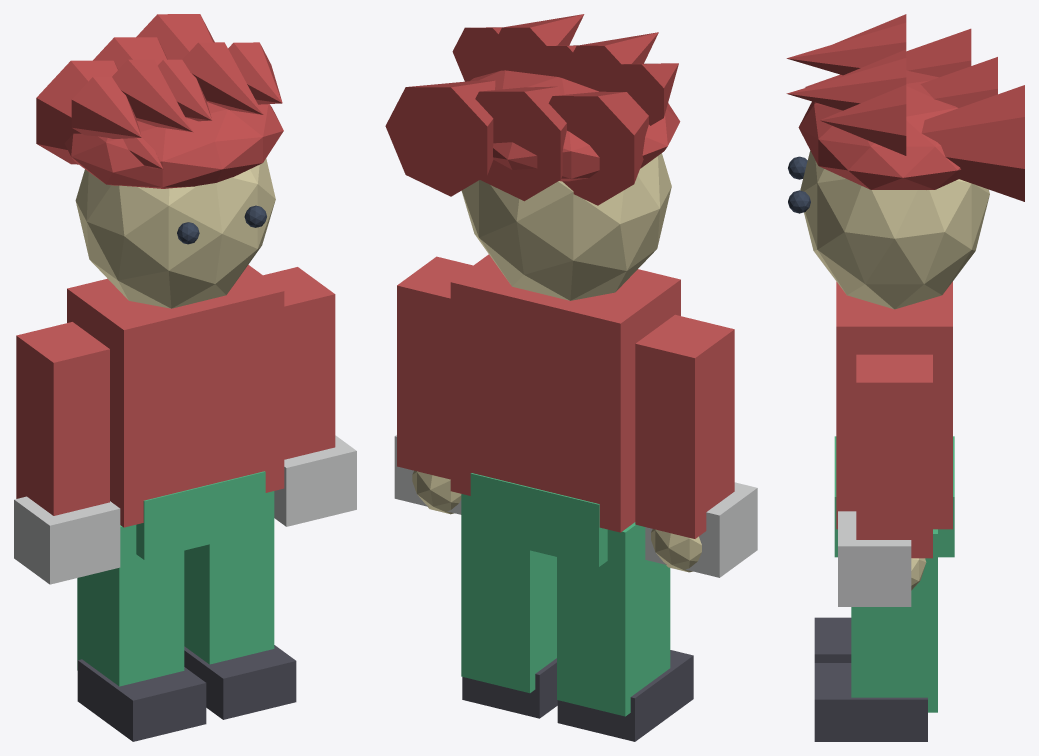
The model's file is knuckles.glb.
3 views of the same model, side by side, from view 1: azimuth 30°, elevation 25°; view 2: azimuth 150°, elevation 25°; view 3: azimuth 270°, elevation 25° (orthographic). The views are drawn at different scales.
Visible parts, largest first — view 1: part_000, part_010, part_002, part_004, part_008, part_013, part_006, part_001, part_022, part_005, part_009, part_023 (+8 smaller); view 2: part_000, part_002, part_010, part_004, part_008, part_006, part_021, part_001, part_019, part_020, part_013, part_005 (+10 smaller); view 3: part_010, part_006, part_000, part_008, part_013, part_021, part_009, part_023, part_018, part_015, part_017, part_020 (+4 smaller).
Boxes of the visible parts, x1,y1,x2,y2 form: part_000: [67, 265, 284, 527]; part_010: [75, 158, 275, 308]; part_002: [16, 322, 109, 515]; part_004: [77, 525, 184, 686]; part_008: [184, 491, 274, 664]; part_013: [64, 102, 283, 188]; part_006: [263, 267, 335, 459]; part_001: [136, 471, 265, 560]; part_022: [14, 496, 120, 584]; part_005: [77, 659, 206, 741]; part_009: [184, 645, 296, 719]; part_023: [274, 435, 356, 526]; part_000: [450, 254, 680, 532]; part_002: [635, 314, 734, 538]; part_010: [461, 153, 671, 300]; part_004: [557, 522, 670, 716]; part_008: [461, 494, 556, 693]; part_006: [397, 256, 472, 479]; part_021: [385, 80, 495, 196]; part_001: [470, 473, 607, 566]; part_019: [548, 91, 648, 205]; part_020: [475, 86, 566, 201]; part_013: [470, 70, 680, 181]; part_005: [557, 650, 693, 741]; part_010: [800, 150, 989, 309]; part_006: [856, 354, 932, 558]; part_000: [836, 281, 952, 529]; part_008: [851, 529, 937, 712]; part_013: [798, 70, 960, 189]; part_021: [921, 85, 1024, 201]; part_009: [814, 663, 927, 741]; part_023: [838, 511, 911, 606]; part_018: [820, 85, 906, 155]; part_015: [786, 22, 906, 75]; part_017: [786, 58, 906, 110]; part_020: [920, 57, 997, 107].
Size of the model in its own units: 0.9483 by 1.89 by 0.6221.
